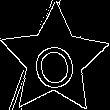O_N: (28, 30, 81, 91)
